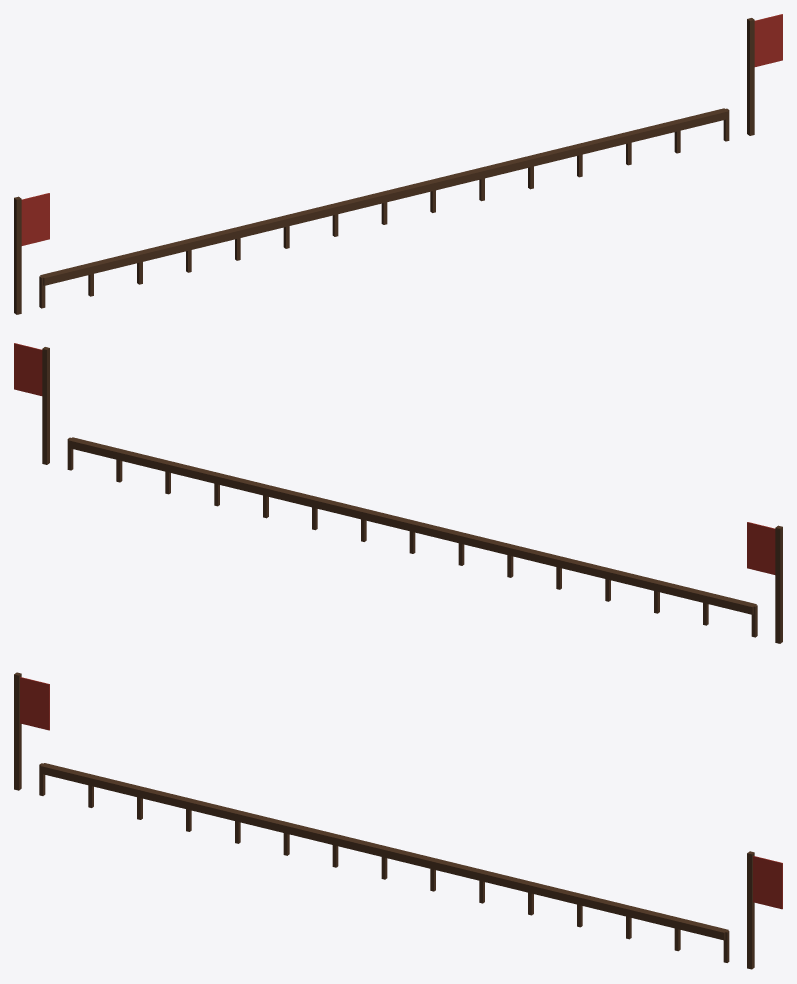
The model's file is tilt.obj.
The picture shows the model from 3 angles, top to bottom: view 1: azimuth 30°, elevation 25°; view 2: azimuth 150°, elevation 25°; view 3: azimuth 330°, elevation 25°; orthographic projection.
Size of the model in its own units: 31.4 by 4.5 by 0.3.
